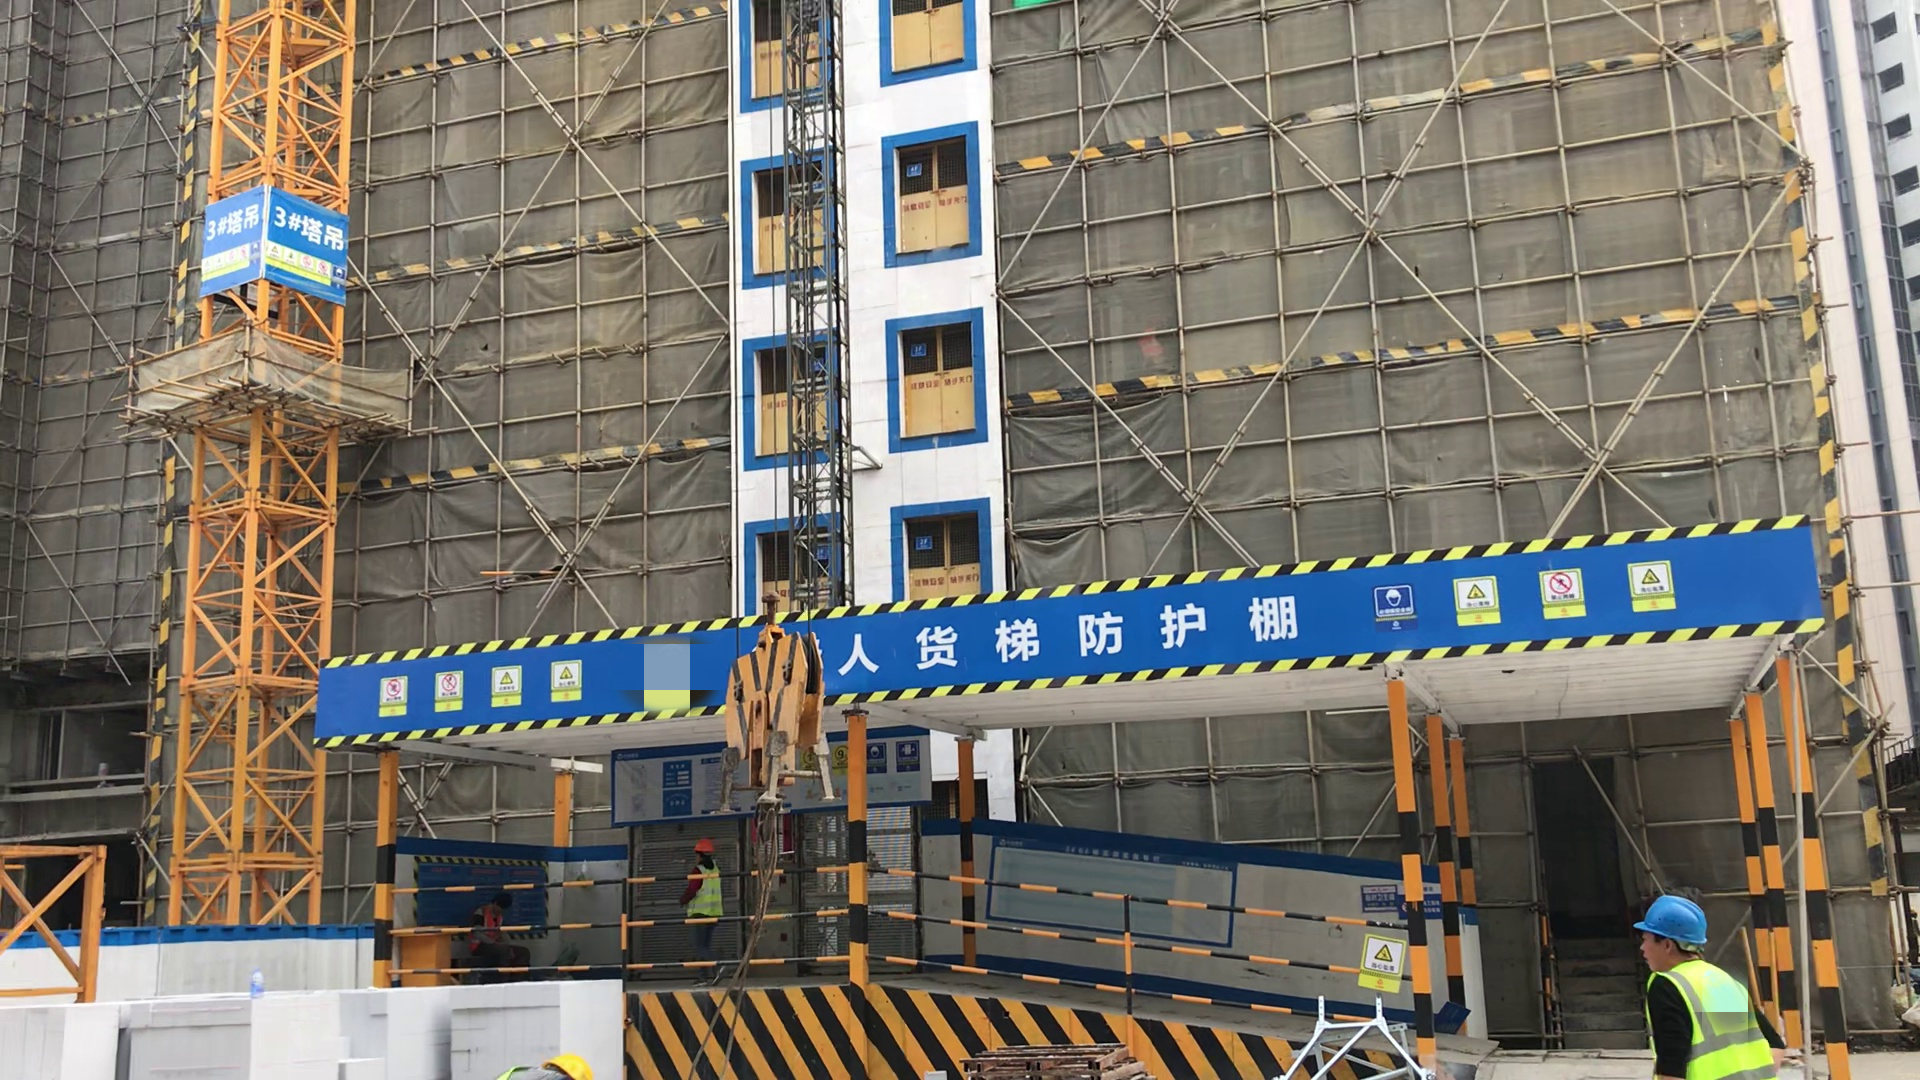brick: (1, 986, 434, 1076), (444, 977, 621, 1069)
ebox: (393, 927, 449, 977)
helmet: (1631, 894, 1709, 953), (542, 1053, 593, 1080), (695, 837, 716, 859)
hook: (722, 584, 837, 887)
person: (1627, 882, 1788, 1080), (682, 831, 734, 987), (469, 890, 534, 967), (491, 1052, 608, 1080)
slogan: (847, 591, 1301, 684), (1378, 557, 1685, 628), (200, 187, 356, 307), (374, 651, 594, 721), (1356, 927, 1406, 1000)
vest: (1642, 961, 1779, 1080), (687, 863, 722, 917), (479, 906, 504, 946)
